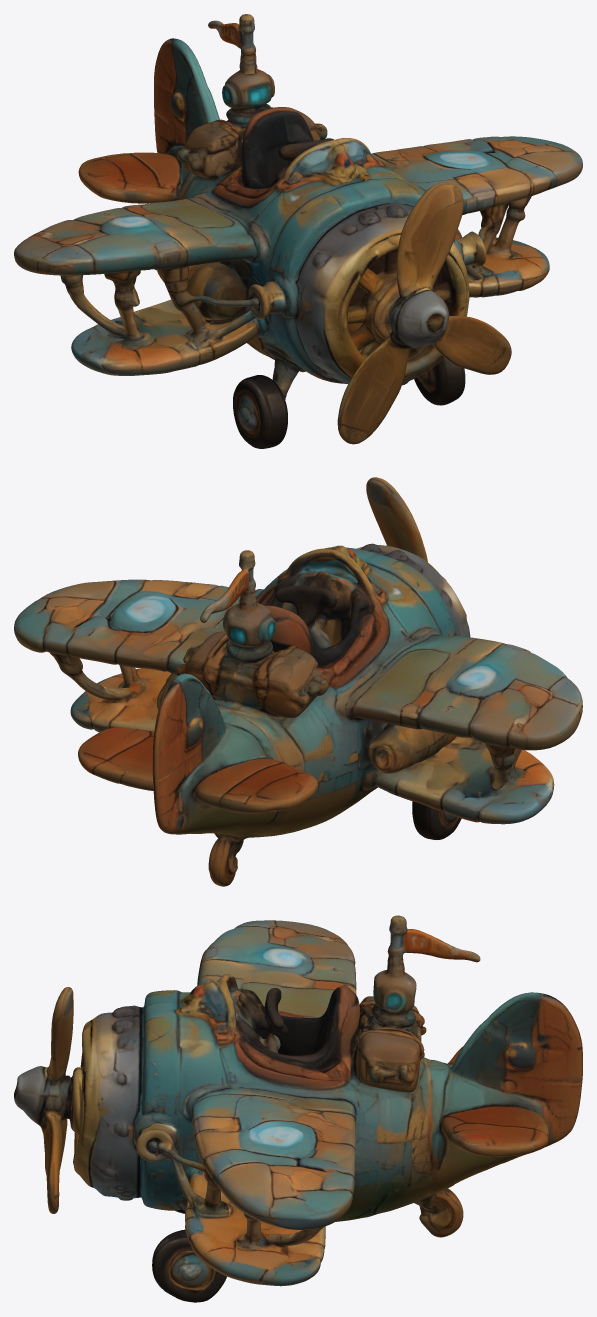
Rendered from wind-dasher.glb.
The picture shows the model from 3 angles, top to bottom: view 1: azimuth 30°, elevation 25°; view 2: azimuth 150°, elevation 25°; view 3: azimuth 270°, elevation 25°; orthographic projection.
Visible parts, largest first — view 1: geometry_0; view 2: geometry_0; view 3: geometry_0.
Part boxes in pixels (<box>): geometry_0: <box>14,14,582,448</box>; geometry_0: <box>14,477,582,886</box>; geometry_0: <box>14,915,582,1302</box>.
Bounding box in the file's own units: 0.9999 × 0.5842 × 0.8893.
Materials: 1 (1 with a texture image).
